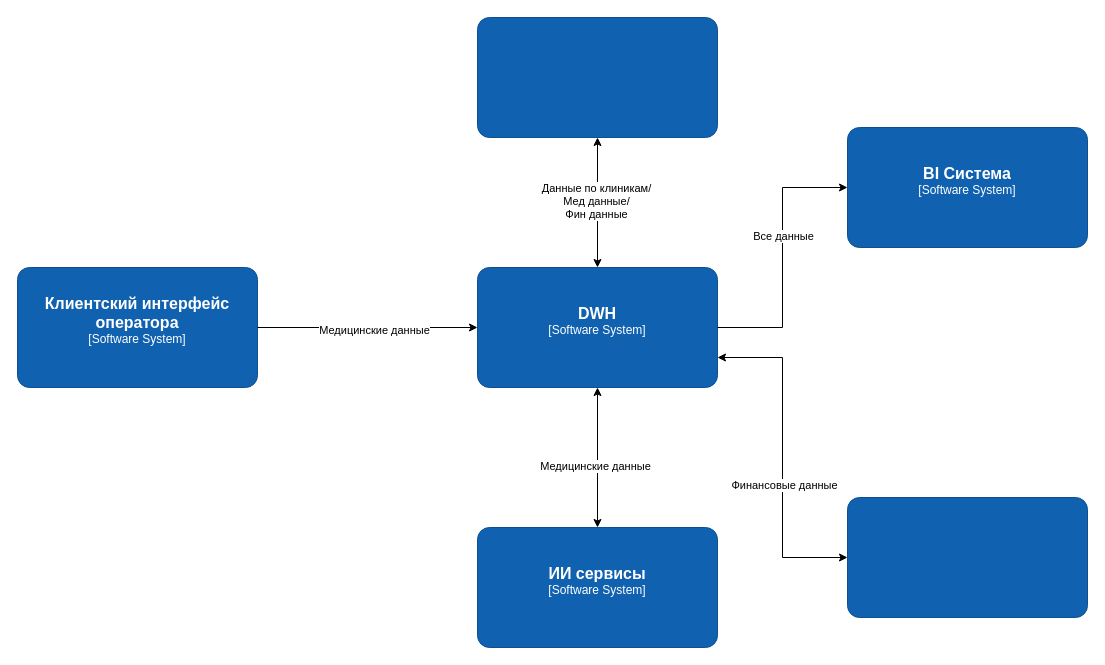
Some shapes in this 1105 by 665 pixel diagram are drawn without their labels. Each missing label, with the centre of its shape:
"Внутренние сервисы [Software System]" belongs at (597,77).
"Финтех сервисы [Software System]" belongs at (967,557).
